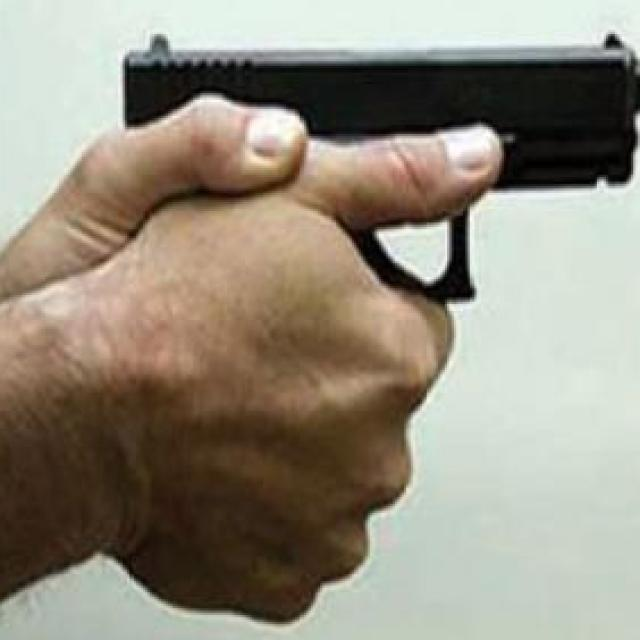pistol: (125, 23, 640, 320)
